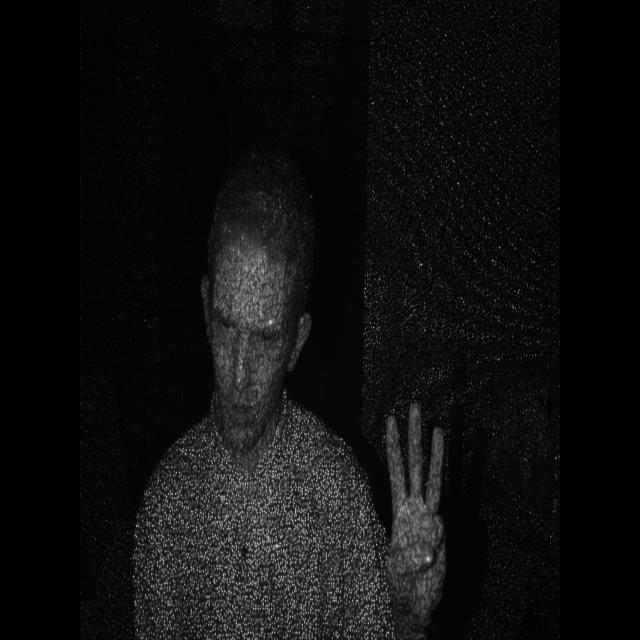W: (367, 377, 460, 624)
